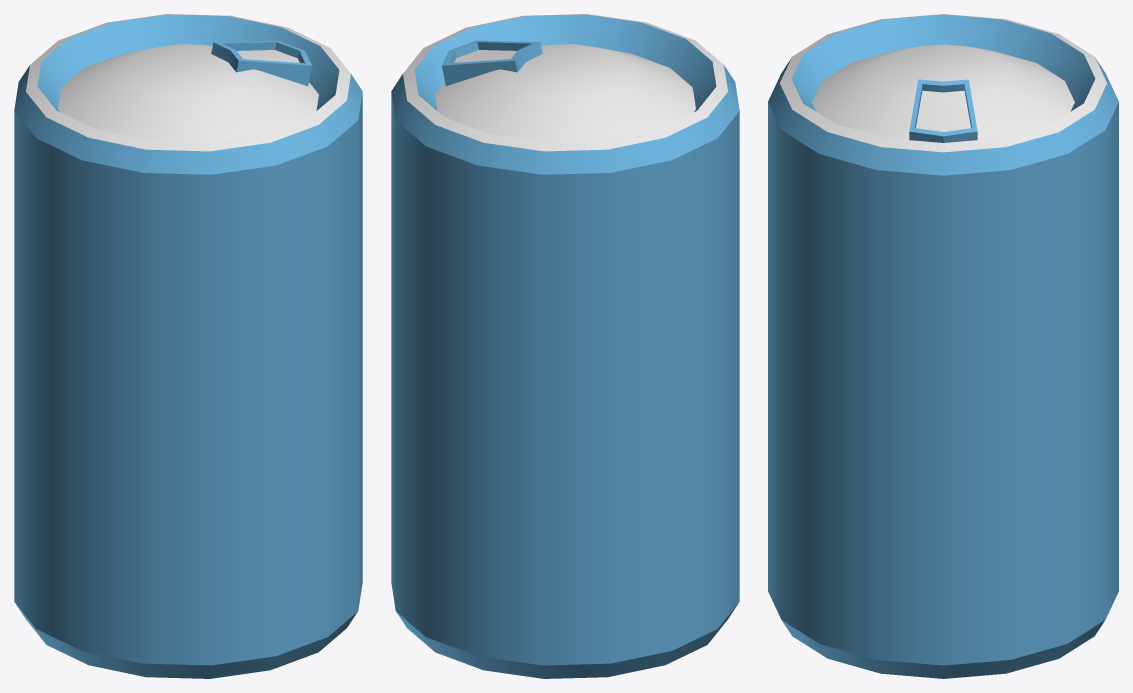
The model's file is soda can.fbx.
3 renders of one model, left to right at view 1: azimuth 30°, elevation 25°; view 2: azimuth 150°, elevation 25°; view 3: azimuth 270°, elevation 25°, orthographic.
Parts seen in each view (by area): view 1: real soda can; view 2: real soda can; view 3: real soda can.
Boxes of the visible parts, x1,y1,x2,y2 form: real soda can: (14,14,362,678); real soda can: (391,14,739,678); real soda can: (768,14,1118,678).
Size of the model in its own units: 200 by 352 by 200.
